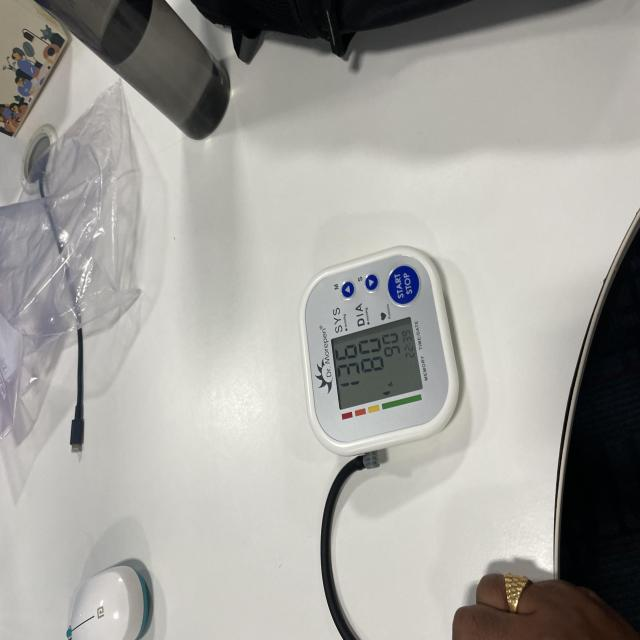bp: (299, 247, 462, 458)
